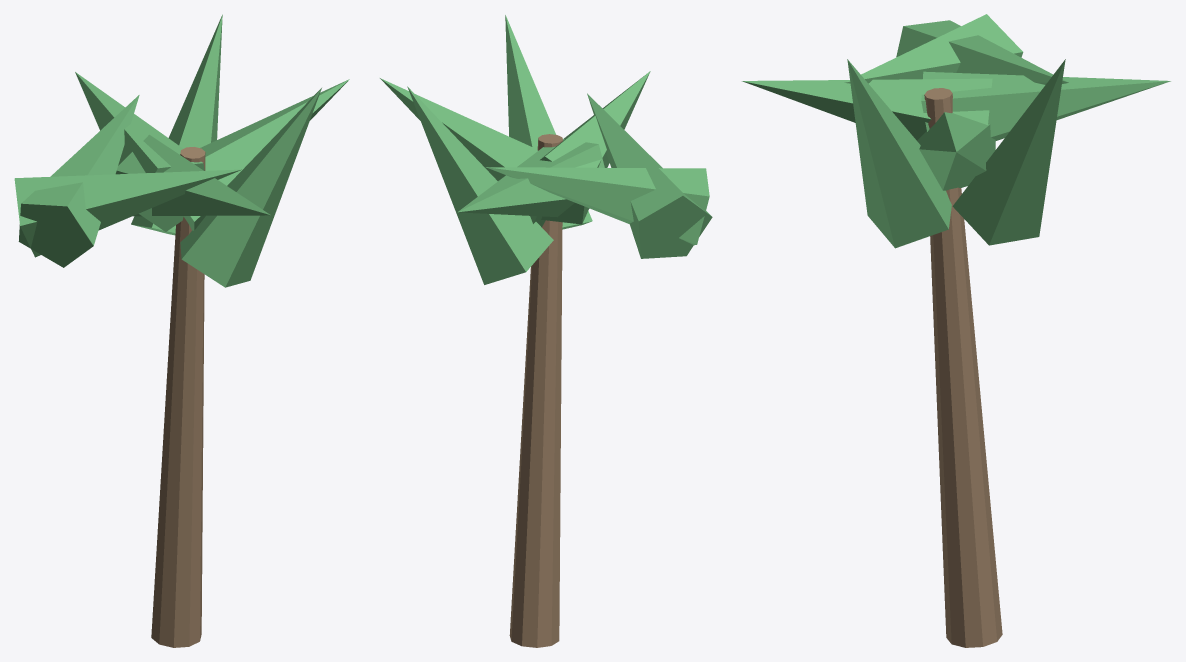
Rendered from prop_palm.glb.
3 renders of one model, left to right at view 1: azimuth 30°, elevation 25°; view 2: azimuth 150°, elevation 25°; view 3: azimuth 270°, elevation 25°, orthographic. The views are drawn at different scales.
Visible parts, largest first — view 1: prop_palm; view 2: prop_palm; view 3: prop_palm.
Part boxes in pixels (x1,y1,x2,y2): prop_palm: (14,14,349,647); prop_palm: (380,15,712,647); prop_palm: (742,14,1170,647).
Size of the model in its own units: 4.8 by 7.83 by 4.88.
